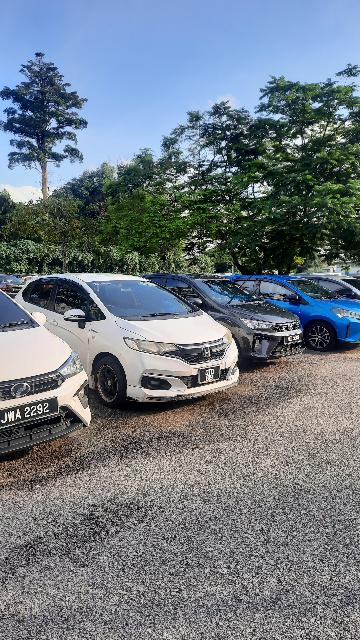License_Plate: (1, 398, 63, 430), (193, 365, 224, 385), (279, 328, 303, 347)
car: (15, 260, 233, 410), (1, 288, 97, 469), (154, 262, 305, 370), (237, 271, 360, 358)
